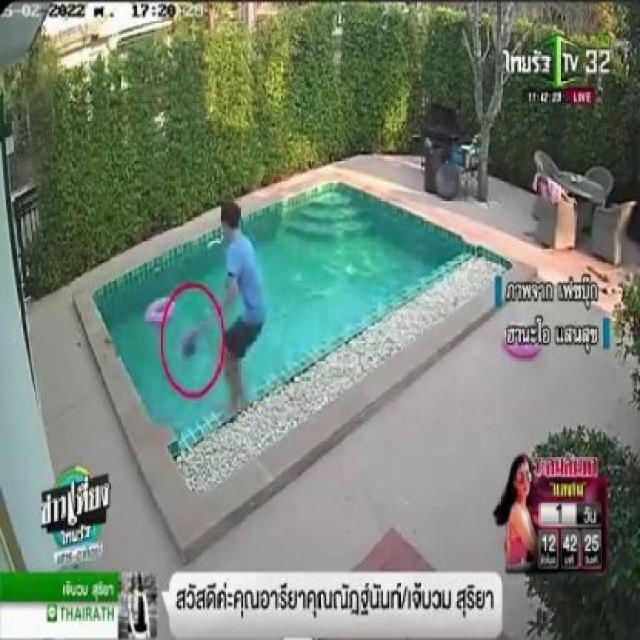drowning: (181, 325, 202, 367)
